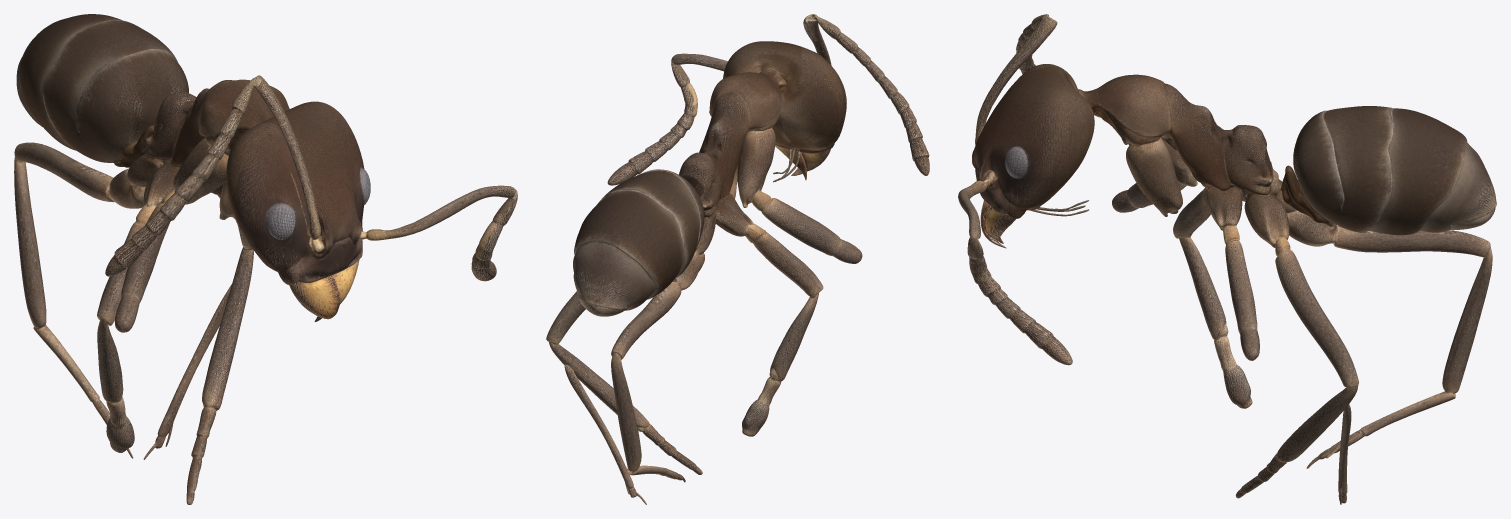
File: esp9.glb
3 views of the same model, side by side, from view 1: azimuth 30°, elevation 25°; view 2: azimuth 150°, elevation 25°; view 3: azimuth 270°, elevation 25° (orthographic). The views are drawn at different scales.
Size of the model in its own units: 1.46 by 1.81 by 1.9.
1 material, 1 textured.
